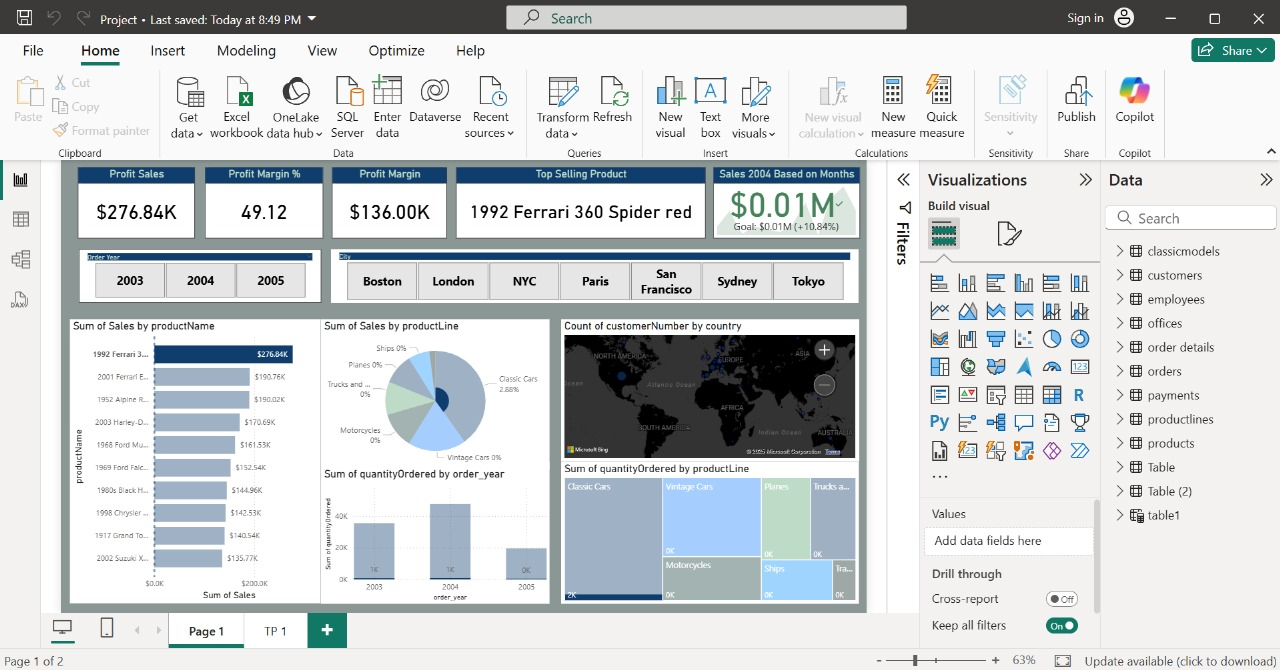

This screenshot's page, from the dashboard's own definition file:
{"tool":"powerbi","page":{"name":"Page 1","canvas":[1280,720],"ordinal":0},"visuals":[{"type":"card","title":"Profit Margin","fields":{"Values":["order details.total_profit"]},"box":[430.7,11.3,183,113.3],"z":0},{"type":"card","title":"Top Selling Product","fields":{"Values":["order details.MostOrderedProduct"]},"box":[625.1,12.7,396.1,112.9],"z":1000},{"type":"barChart","fields":{"Category":["products.productName"],"Y":["Sum(order details.Sales)"]},"box":[15,253.3,398.3,451.7],"z":2000},{"type":"pieChart","fields":{"Category":["products.productLine"],"Y":["Sum(order details.Sales)"]},"box":[413.6,252.9,362.7,240.2],"z":3000},{"type":"slicer","fields":{"Values":["orders.order_year"]},"box":[14.3,141.6,402.4,85.9],"z":4000},{"type":"kpi","title":"Sales 2004 Based on Months","fields":{"Indicator":["orders.sales_2004"],"Goal":["orders.sales_2003"],"TrendLine":["orders.Month Name"]},"box":[1036.3,11.3,233.2,113.3],"z":5000},{"type":"map","fields":{"Size":["CountNonNull(customers.customerNumber)"],"Category":["customers.country"]},"box":[795.3,251.3,472.4,227.5],"z":6000},{"type":"treemap","fields":{"Group":["productlines.productLine"],"Values":["Sum(order details.quantityOrdered)"]},"box":[795,480,473.3,225],"z":7000},{"type":"clusteredColumnChart","fields":{"Y":["Sum(order details.quantityOrdered)"],"Category":["orders.order_year"]},"box":[413.3,480,363.3,225],"z":8000},{"type":"card","title":"Profit Margin %","fields":{"Values":["classicmodels.Profit_Margin_%"]},"box":[225.9,12.7,190.9,112.9],"z":9000},{"type":"card","title":"Profit Sales","fields":{"Values":["Sum(order details.Sales)"]},"box":[14.3,12.7,198.8,112.9],"z":10000},{"type":"slicer","fields":{"Values":["offices.city"]},"box":[431.1,141.6,838.3,84.3],"z":11000}]}

Visuals, with their boxes on the page's 1280x720 design canvas (x1, y1, x2, y2). These are canvas units, not pixel positions in the 1280x670 screenshot, which may show the page scaled, cropped or inside an application window:
"Profit Margin" card: x1=431 y1=11 x2=614 y2=125
"Top Selling Product" card: x1=625 y1=13 x2=1021 y2=126
barChart - products.productName x Sum(order details.Sales): x1=15 y1=253 x2=413 y2=705
pieChart - products.productLine x Sum(order details.Sales): x1=414 y1=253 x2=776 y2=493
slicer - orders.order_year: x1=14 y1=142 x2=417 y2=228
"Sales 2004 Based on Months" kpi: x1=1036 y1=11 x2=1270 y2=125
map - CountNonNull(customers.customerNumber) x customers.country: x1=795 y1=251 x2=1268 y2=479
treemap - productlines.productLine x Sum(order details.quantityOrdered): x1=795 y1=480 x2=1268 y2=705
clusteredColumnChart - Sum(order details.quantityOrdered) x orders.order_year: x1=413 y1=480 x2=777 y2=705
"Profit Margin %" card: x1=226 y1=13 x2=417 y2=126
"Profit Sales" card: x1=14 y1=13 x2=213 y2=126
slicer - offices.city: x1=431 y1=142 x2=1269 y2=226
